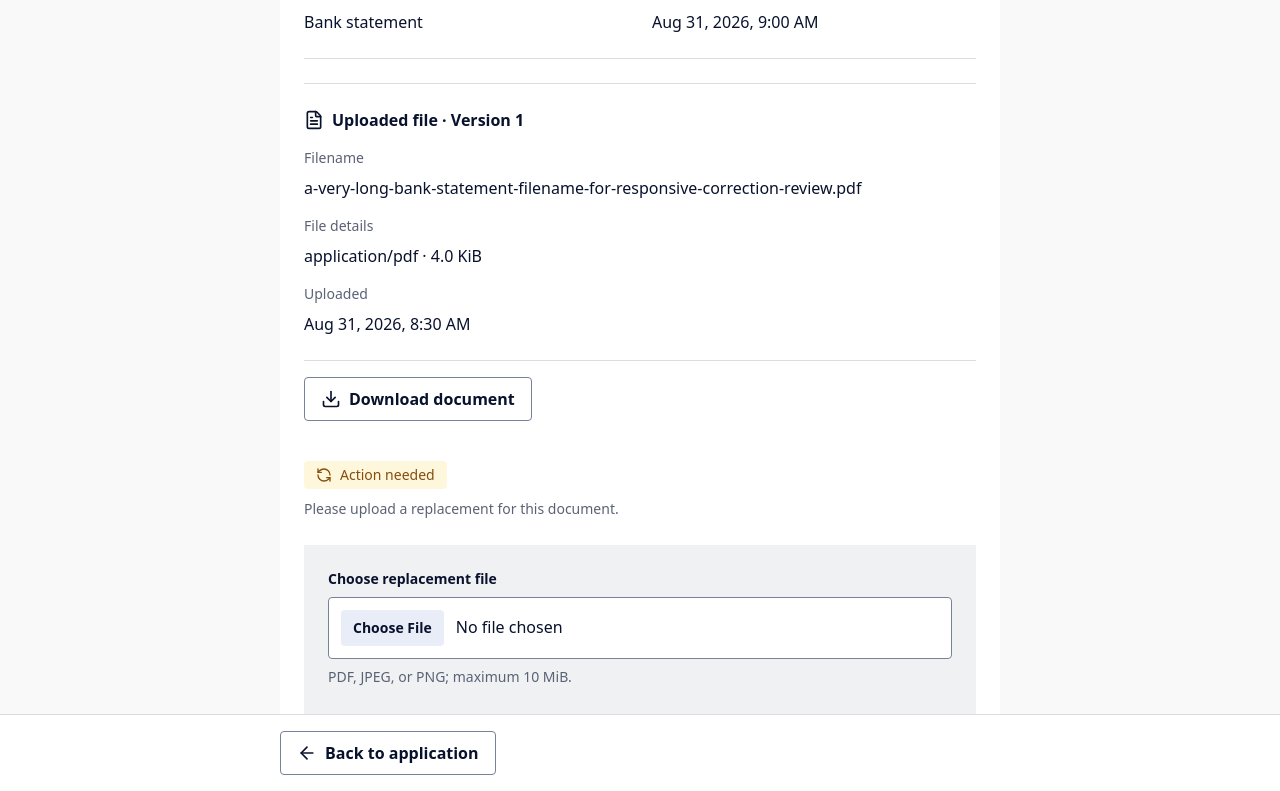
Test: FE-CP8 Customer corrections › retrieves the current correction document without mutations (failure: true)
This screenshot has width=1280, height=791.
(page scrolled)
Click the button "Download document". click: (418, 399)
box: [304,377,532,421]
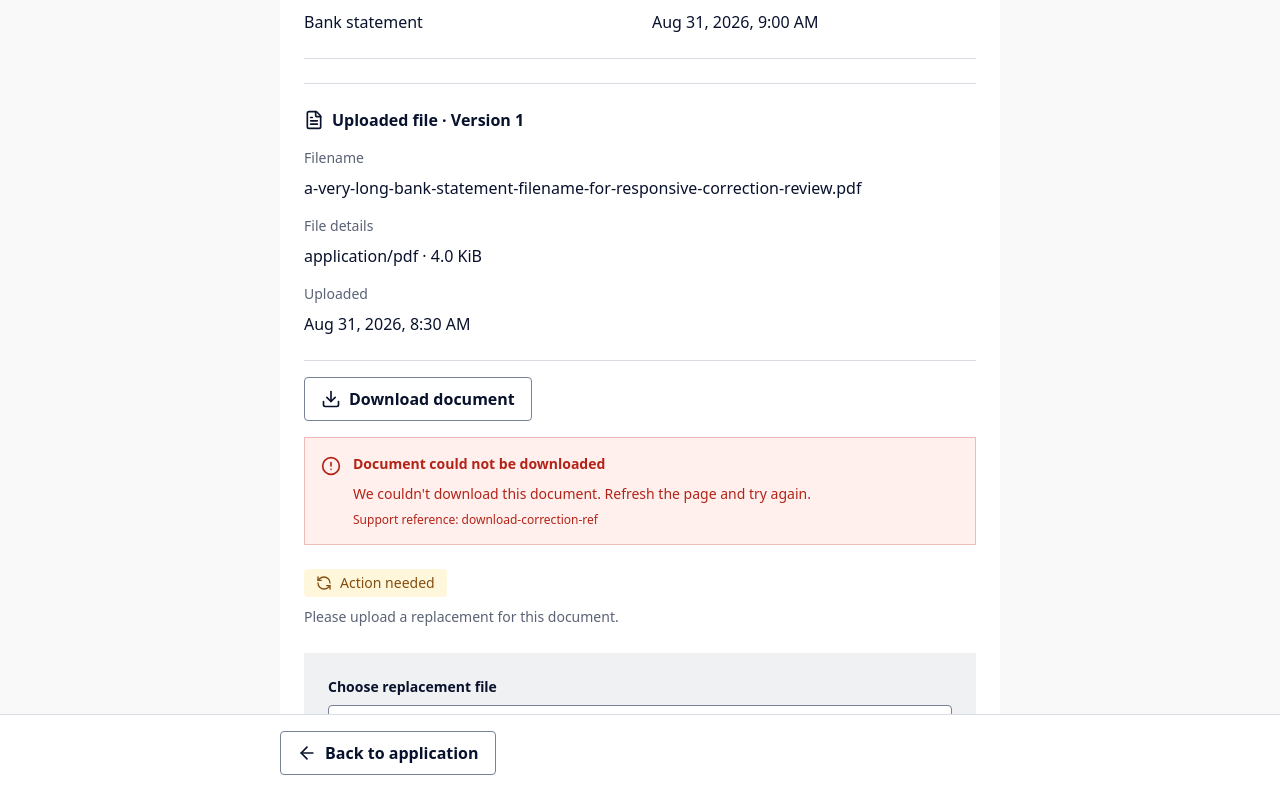
Check: the text "a-very-long-bank-statement-filename-for-responsive-correction-review.pdf" is shown, box [304,177,862,199]
Check: the text "We couldn't download this document. Refresh the page and try again." is shown, box [353,484,811,503]
Check: the text "Support reference: download-correction-ref" is shown, box [353,511,598,528]
